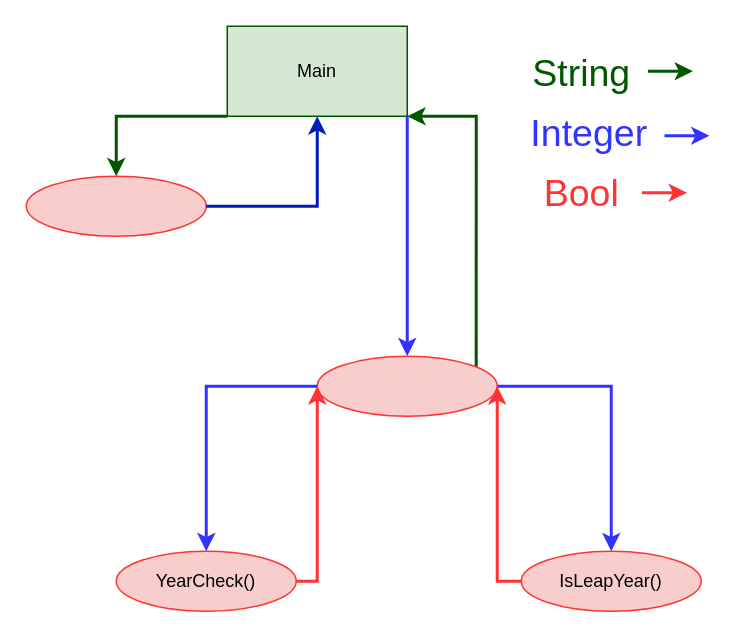
This 749x638 diagram has some shape labels left out. The shapes that lost their labels are listed below. From the top down, each one's box as (x1, y1, x2, y2) in pixels, then its label:
(25, 175, 206, 236): TestInput()
(316, 355, 497, 416): YayOrNay()
